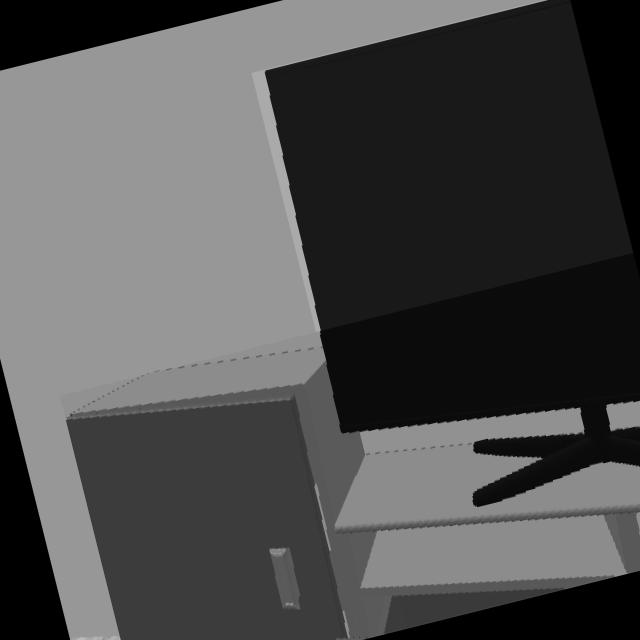cabinet: (67, 348, 640, 640)
monitor: (267, 0, 640, 510)
